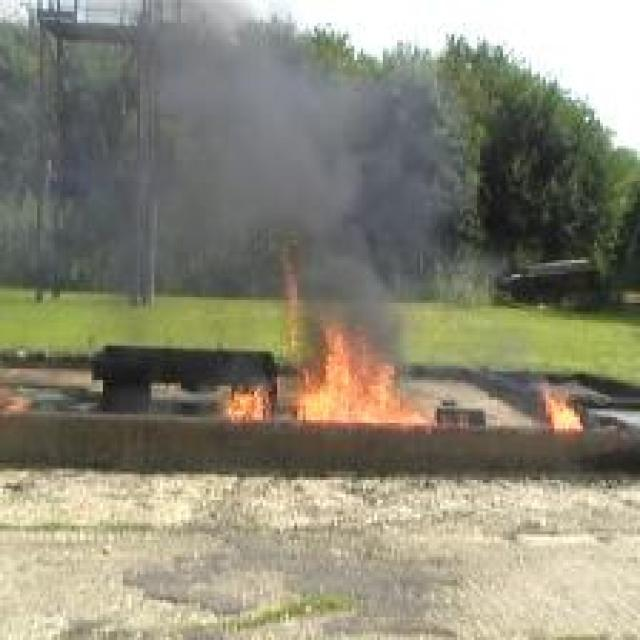Fire: (284, 256, 439, 424), (543, 388, 583, 428)
